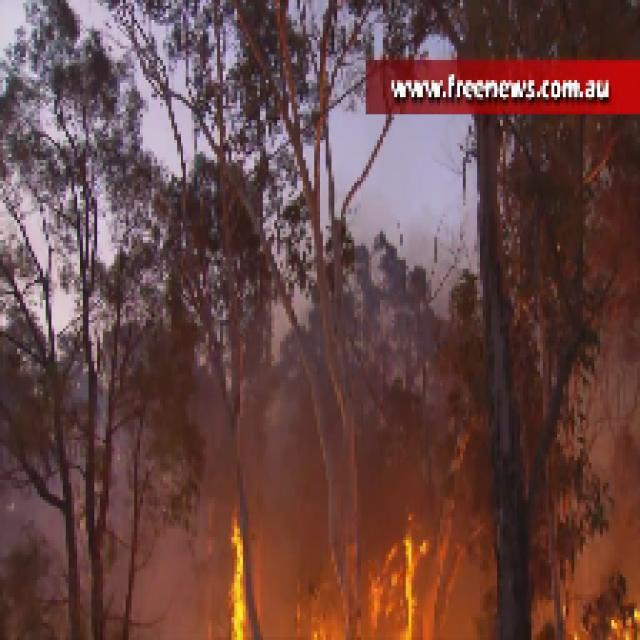Fire: (377, 531, 432, 640), (222, 514, 252, 640)
Smoke: (585, 388, 640, 574), (266, 388, 320, 572), (140, 511, 206, 626)
